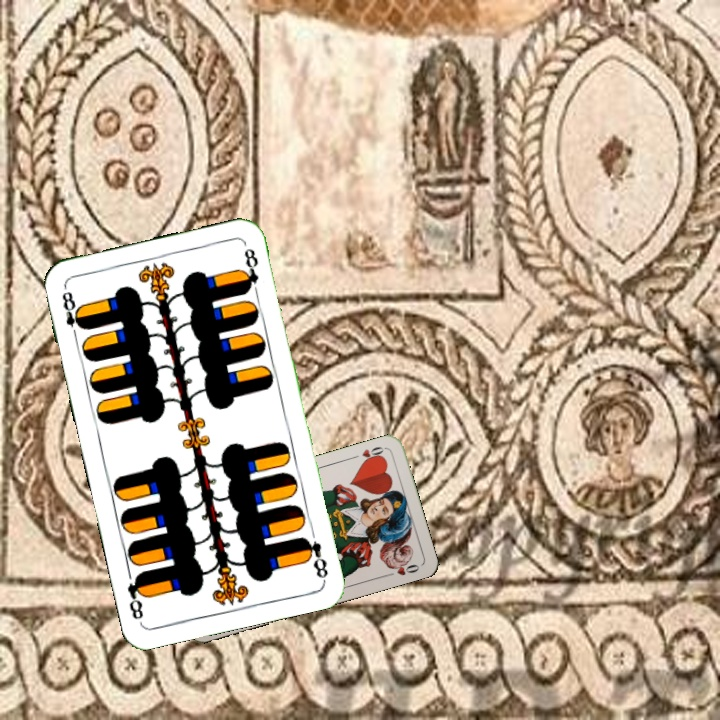E8: (58, 283, 88, 342), (298, 533, 331, 583)
HO: (348, 442, 388, 466)
